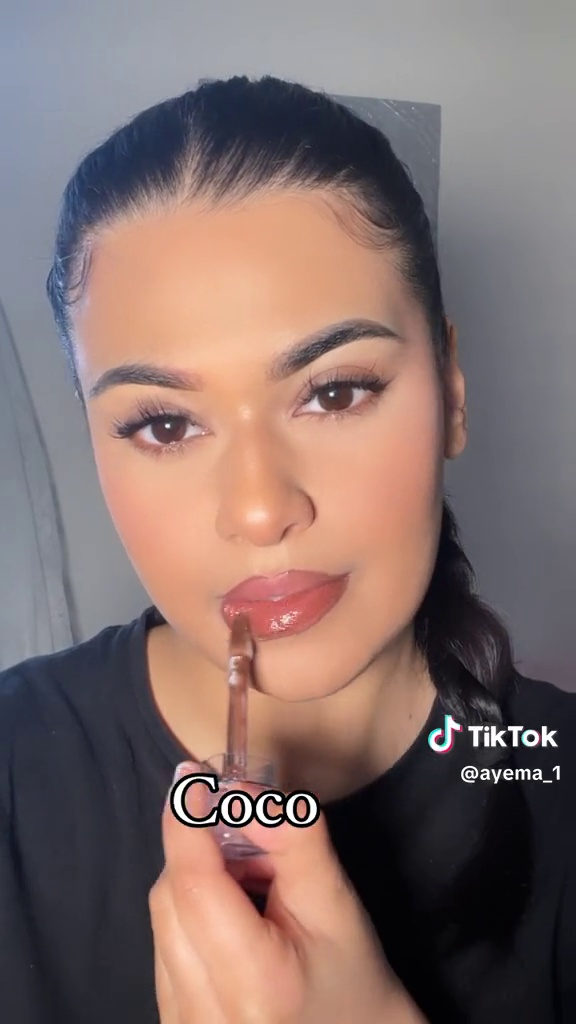train' :'yolo_data/train/images',: (184, 605, 290, 873)
